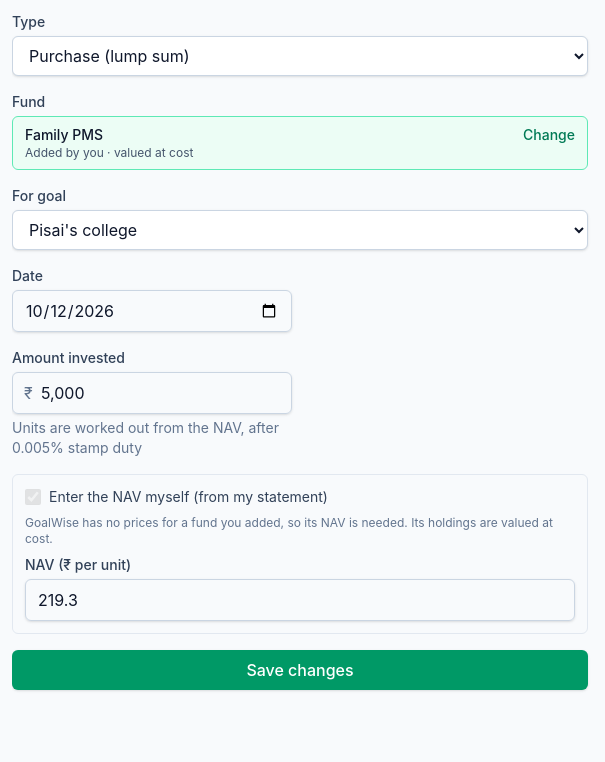
TransactionForm › requires the NAV for a fund the user added, and won't let it be unticked
This screenshot has width=605, height=762.
Expected: the checkbox labelled "Enter the NAV myself (from my statement)" is checked, [25, 489, 41, 505]
Expected: the checkbox labelled "Enter the NAV myself (from my statement)" is disabled, [25, 489, 41, 505]
Clear the number field labelled "NAV (₹ per unit)": (300, 600) [25, 579, 575, 621]
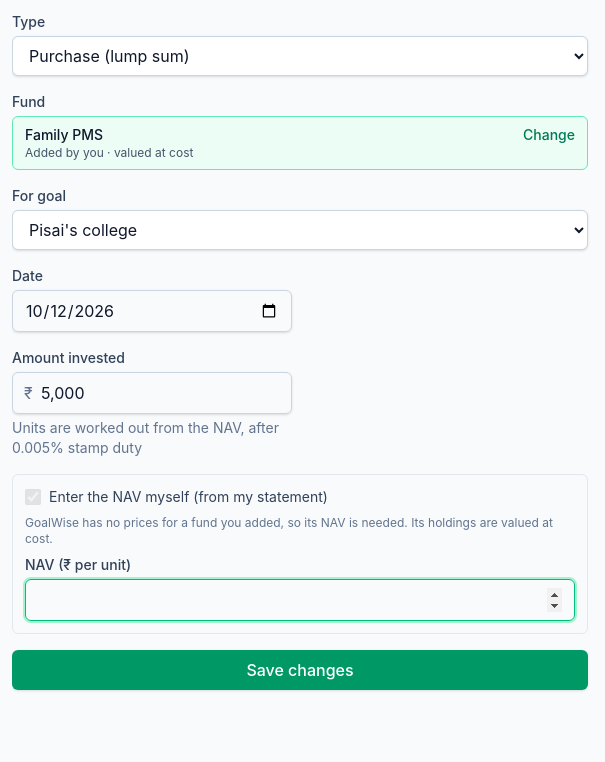
Click the button "Save changes": (300, 670) [12, 650, 588, 690]
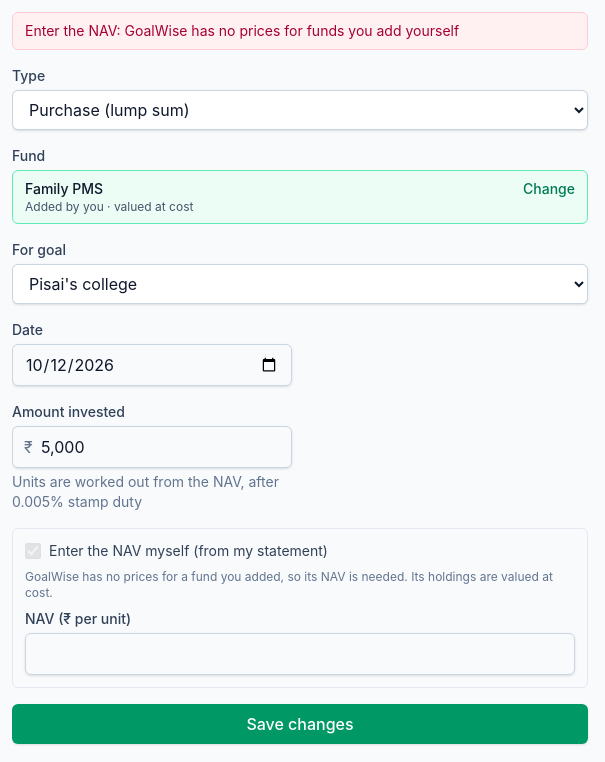
Expected: the message shows "Enter the NAV", [25, 22, 459, 39]
